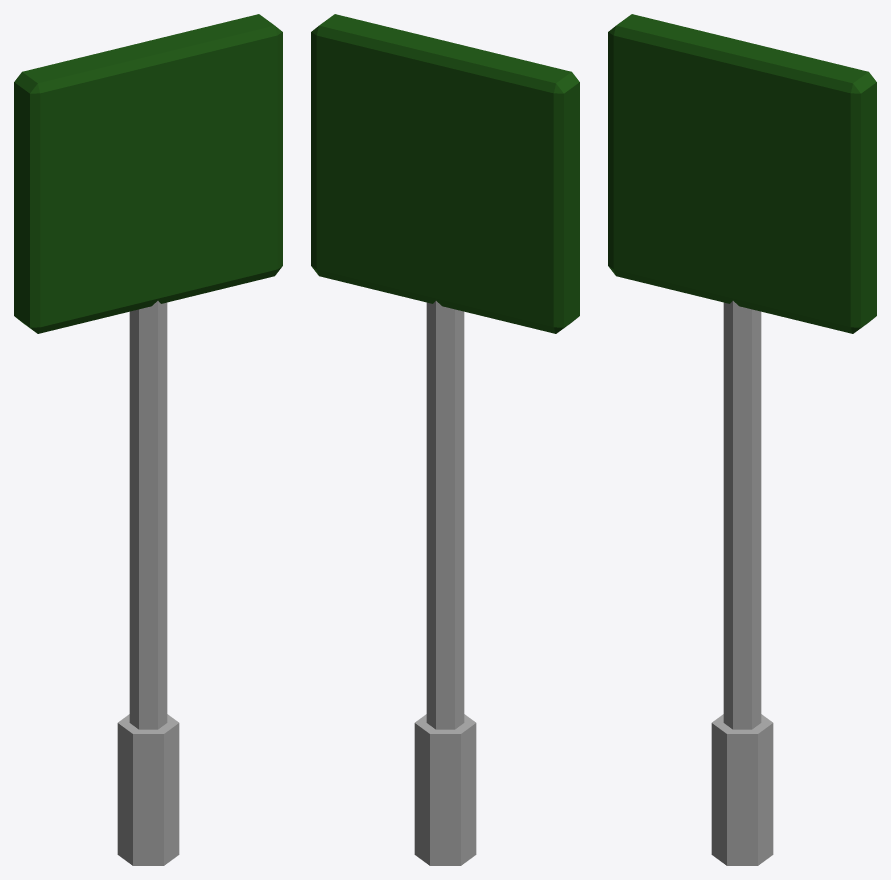
File: SignBoard_01.fbx
3 renders of one model, left to right at view 1: azimuth 30°, elevation 25°; view 2: azimuth 150°, elevation 25°; view 3: azimuth 330°, elevation 25°, orthographic.
Visible parts, largest first — view 1: SignBoard_01; view 2: SignBoard_01; view 3: SignBoard_01.
Part boxes in pixels (<box>): SignBoard_01: <box>14,14,282,865</box>; SignBoard_01: <box>311,14,579,865</box>; SignBoard_01: <box>608,14,876,865</box>.
Bounding box in the file's own units: 521 × 1588 × 110.
